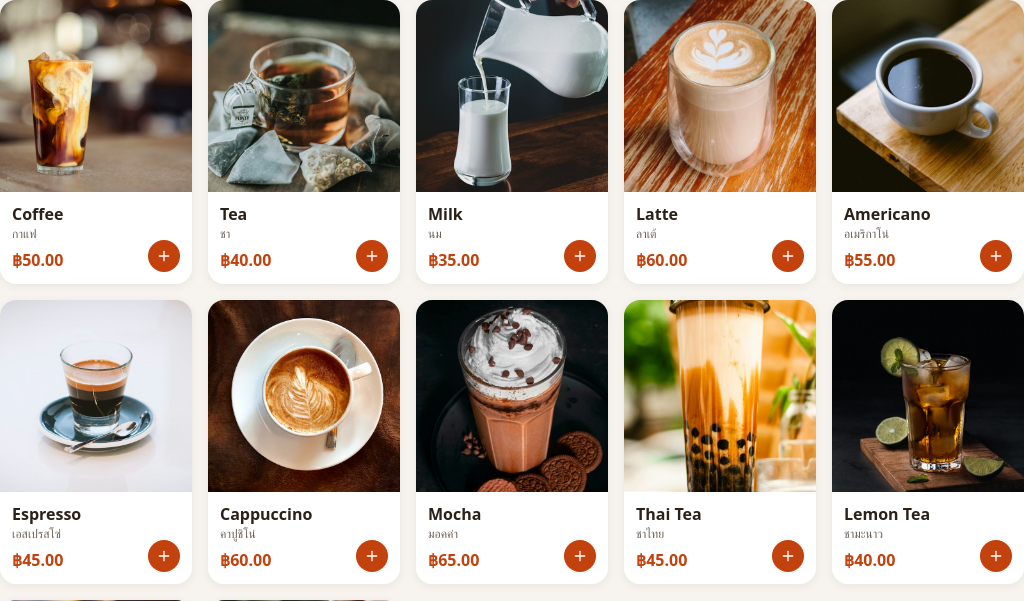
Test: DrinkBuilder › opens a dialog for the picked base
Expected: the button "Coffee กาแฟ ฿50.00" is shown, [0, 0, 192, 284]
Click the button "Tea ชา ฿40.00" at (304,142), box [208, 0, 400, 284]
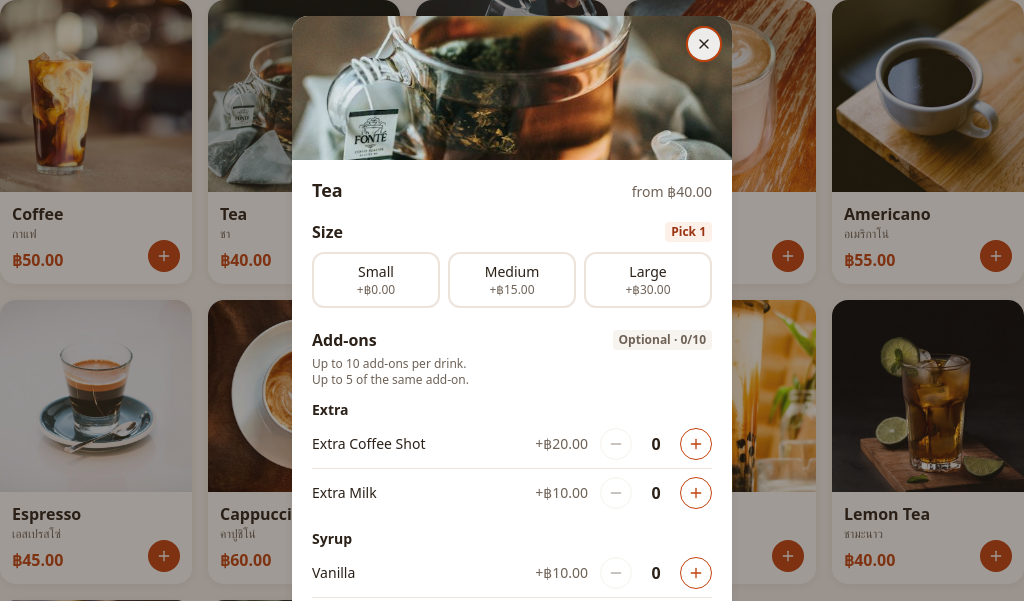
Now the heading "Tea" is shown, box [312, 176, 343, 204]
Now the text "from ฿40.00" is shown, box [632, 182, 712, 202]
